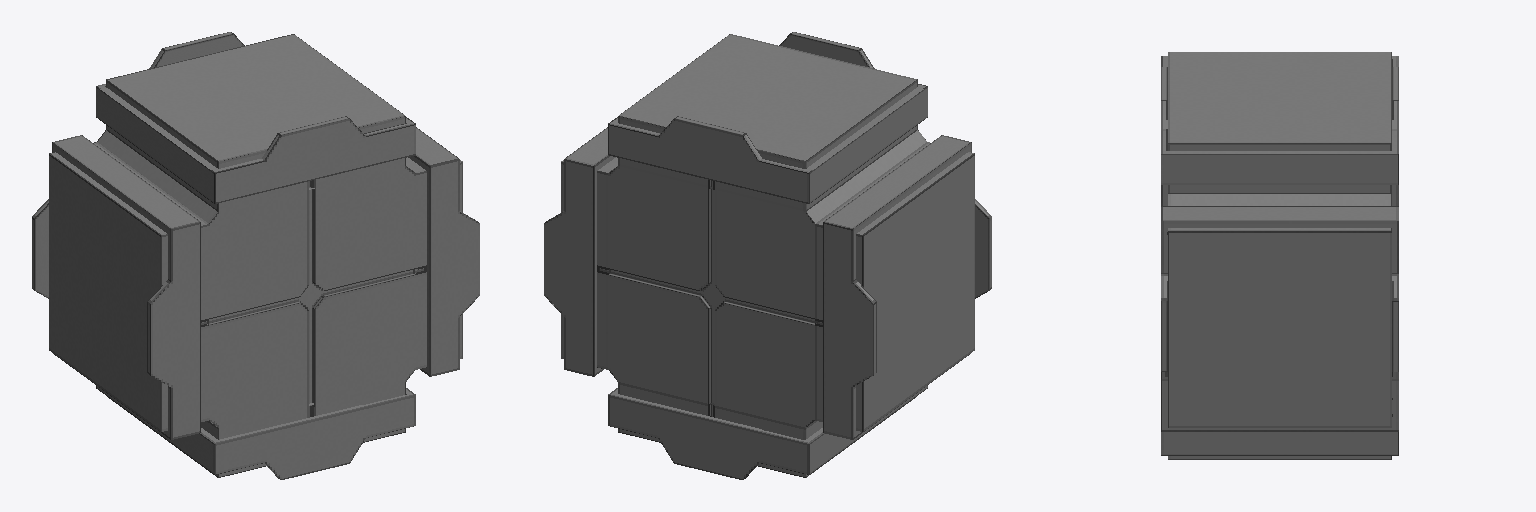
3 views of the same model, side by side, from view 1: azimuth 30°, elevation 25°; view 2: azimuth 150°, elevation 25°; view 3: azimuth 270°, elevation 25° (orthographic).
Parts seen in each view (by area): view 1: Junction.obj; view 2: Junction.obj; view 3: Junction.obj.
Boxes of the visible parts, <box> form: Junction.obj: <box>32,32,479,479</box>; Junction.obj: <box>544,32,991,479</box>; Junction.obj: <box>1161,52,1398,459</box>.
Size of the model in its own units: 3.6 by 3.6 by 2.25.
Materials: 1 (1 with a texture image).